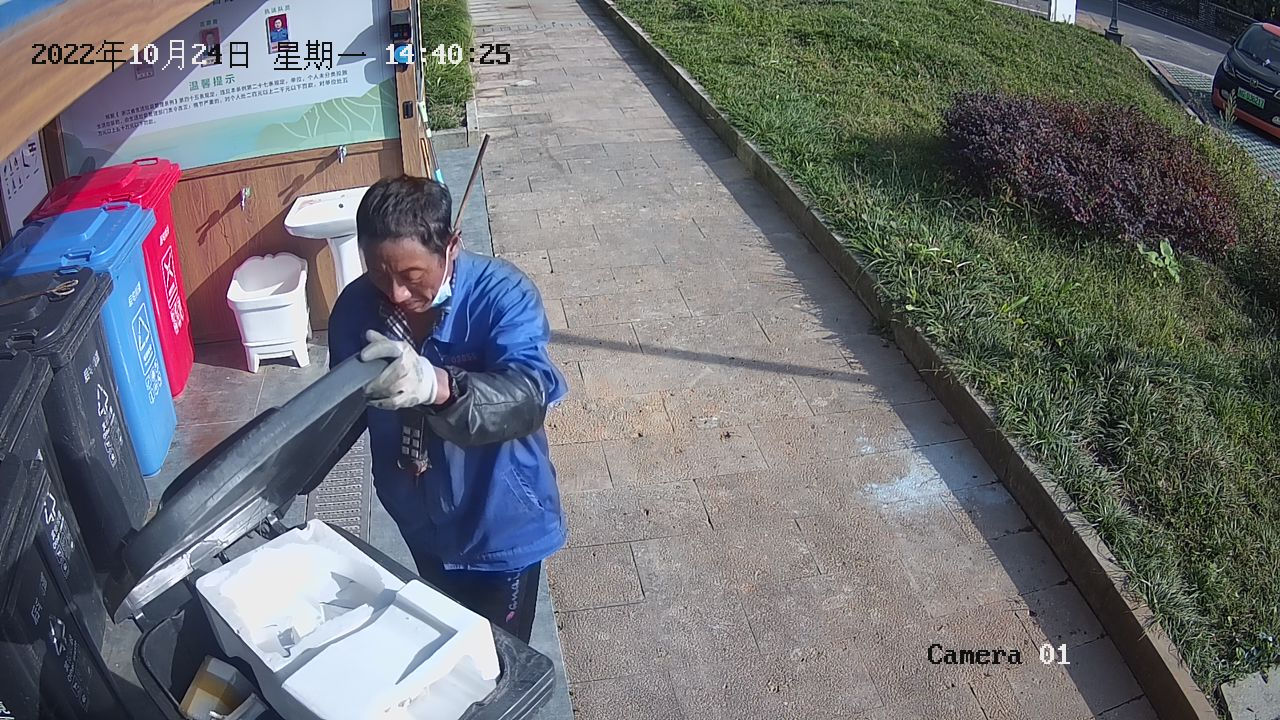worker: (315, 170, 580, 668)
